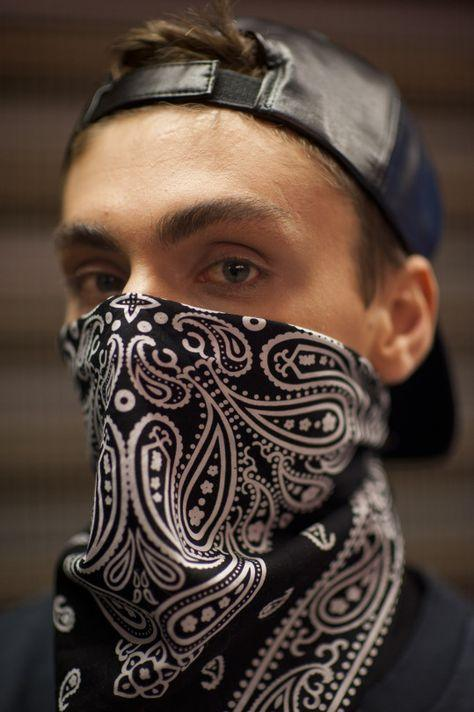cap: (46, 0, 462, 266)
scarf-kerchief: (32, 280, 412, 712)
